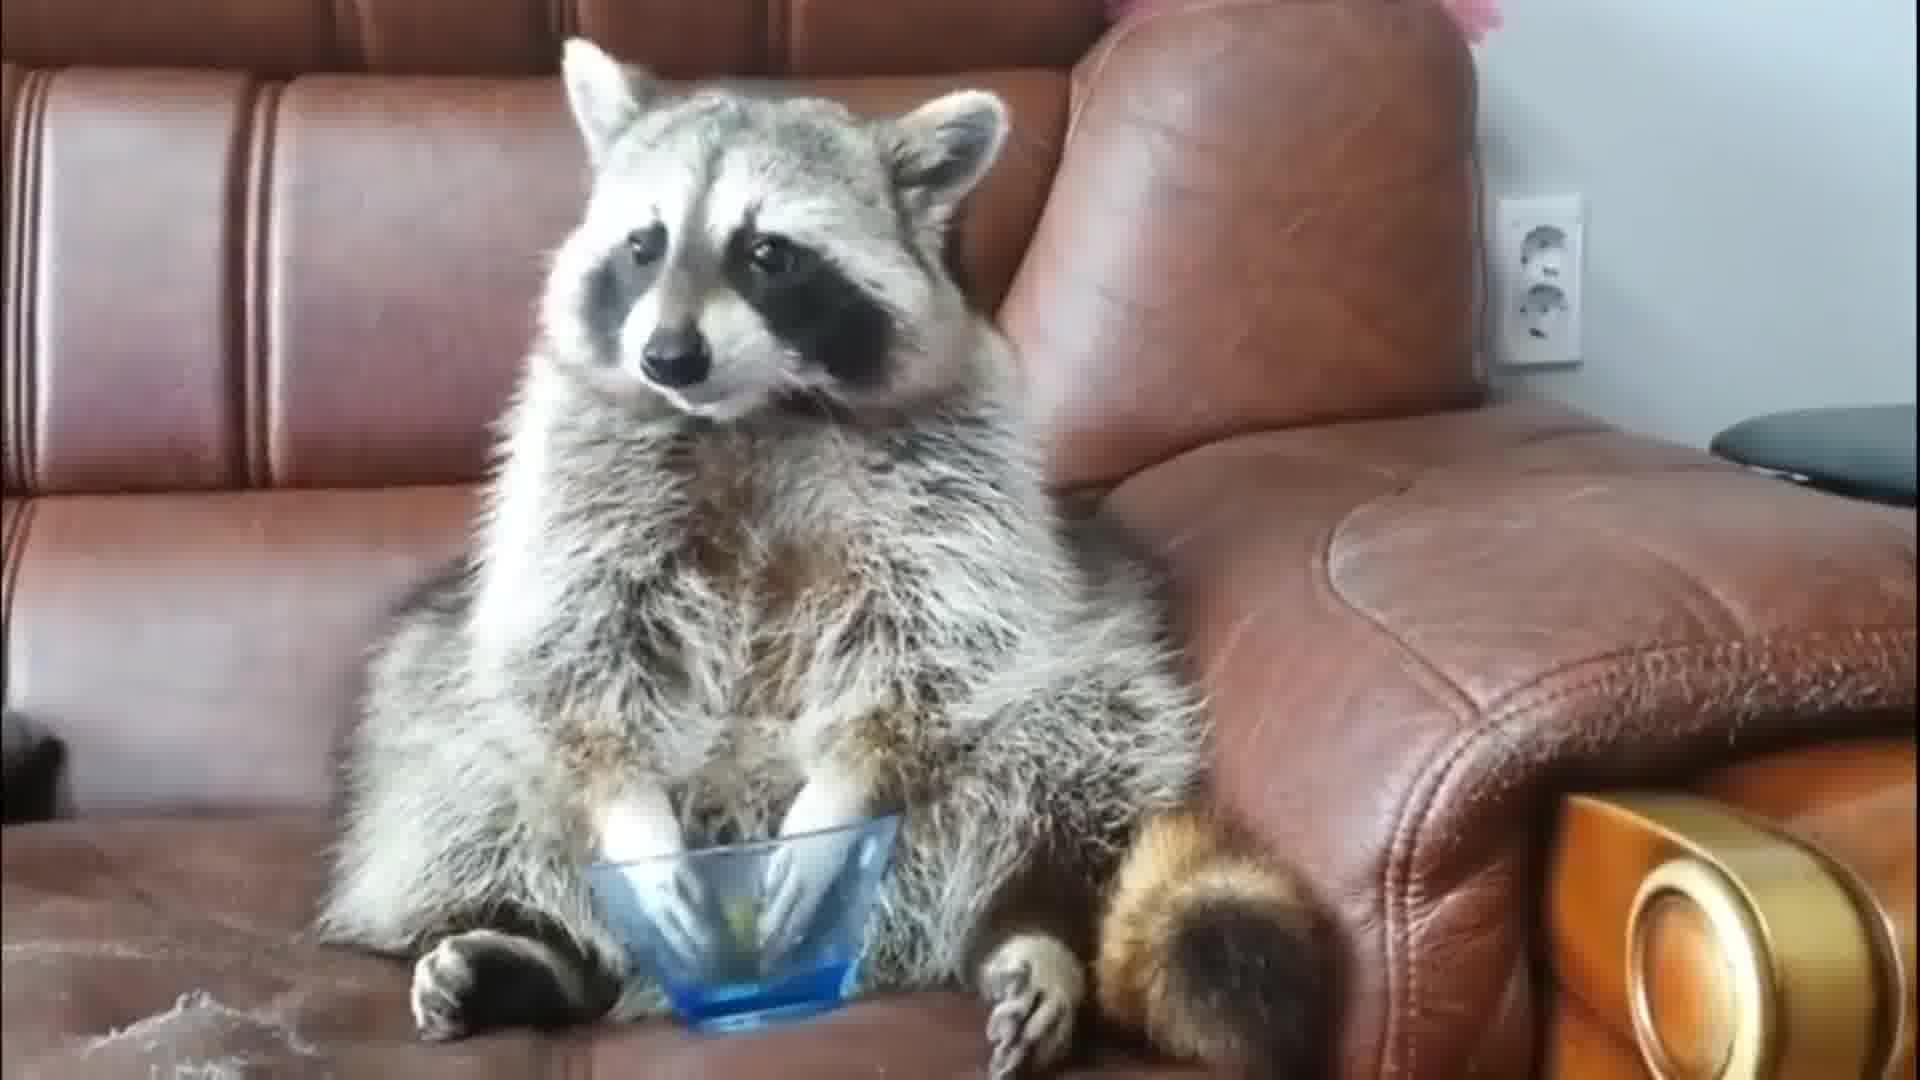raccoon: (317, 37, 1336, 1080)
